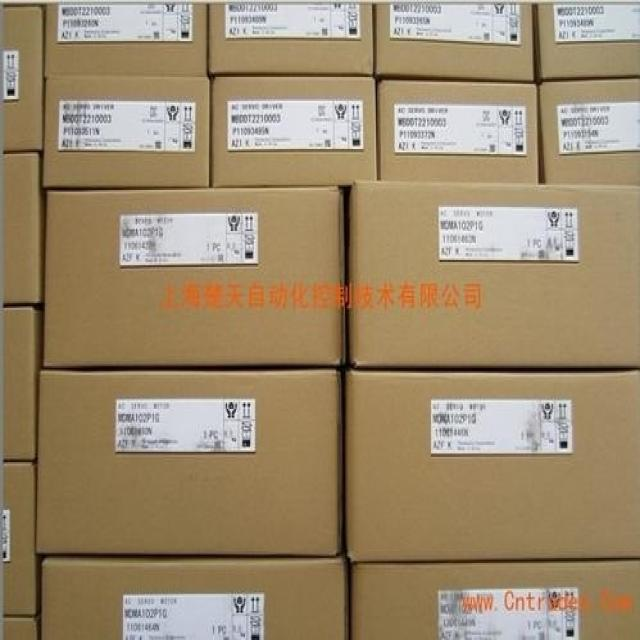box: (344, 371, 640, 565), (36, 371, 341, 556), (348, 180, 640, 370), (42, 187, 345, 368), (41, 558, 348, 640), (349, 561, 640, 640), (42, 77, 209, 190), (210, 77, 377, 187), (376, 79, 540, 183), (373, 0, 534, 80), (208, 0, 373, 75), (44, 0, 208, 75), (539, 79, 640, 185), (534, 0, 640, 80), (0, 152, 44, 303), (0, 306, 42, 460), (0, 464, 41, 616), (0, 7, 42, 152), (0, 616, 38, 640)
